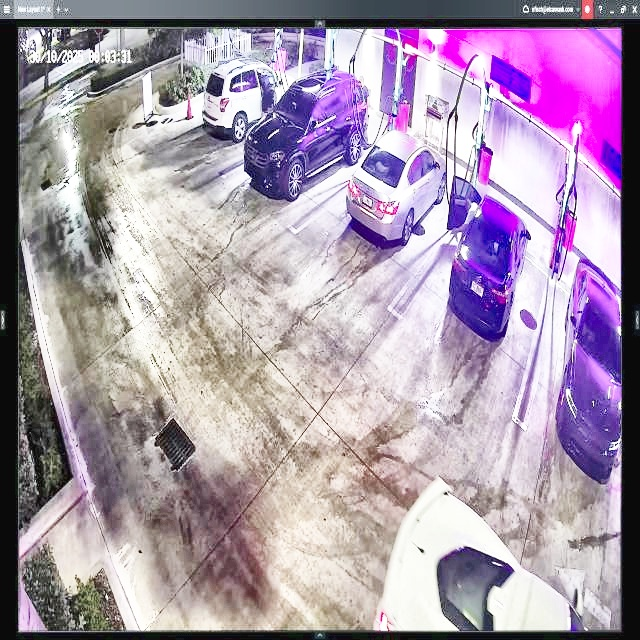Car: (242, 67, 368, 197), (448, 173, 531, 338), (347, 132, 447, 241)
